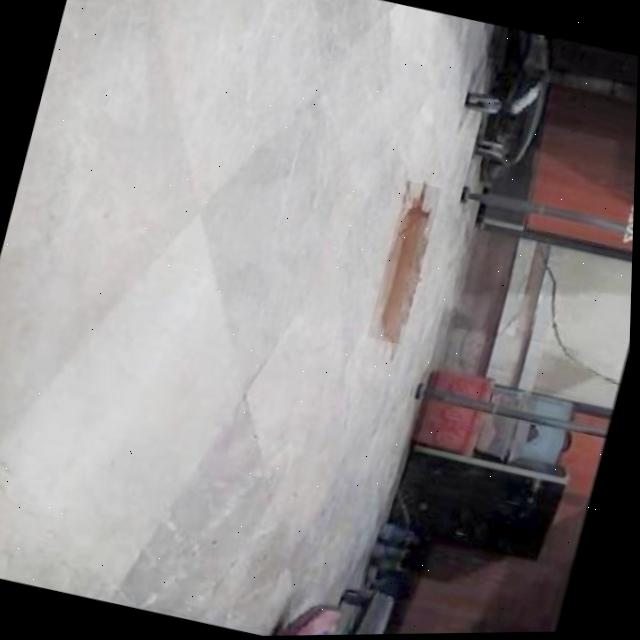spillage: (378, 184, 429, 342)
